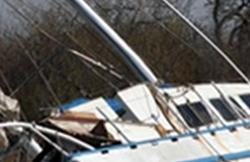rust: (53, 108, 98, 131), (150, 119, 169, 137)
